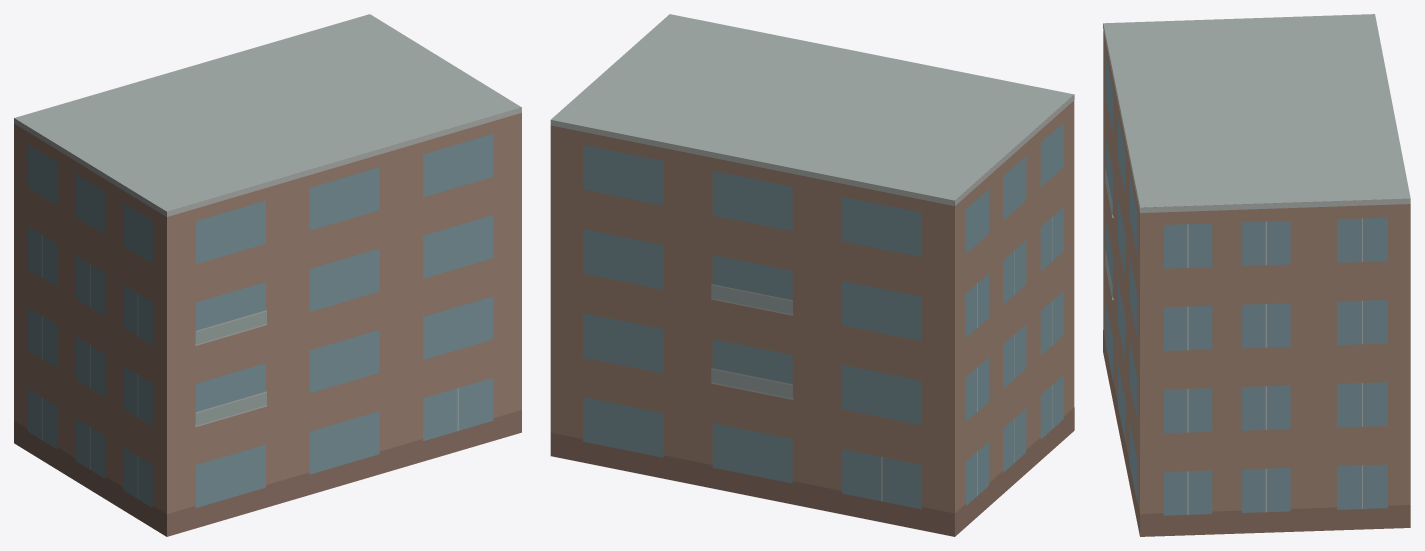
File: survey-upis-33018859.glb
3 renders of one model, left to right at view 1: azimuth 30°, elevation 25°; view 2: azimuth 150°, elevation 25°; view 3: azimuth 270°, elevation 25°, orthographic. The views are drawn at different scales.
Visible parts, largest first — view 1: survey-upis-33018859.tmp; view 2: survey-upis-33018859.tmp; view 3: survey-upis-33018859.tmp.
Boxes of the visible parts, left/top/right/bottom form: survey-upis-33018859.tmp: left=14, top=14, right=521, bottom=536; survey-upis-33018859.tmp: left=550, top=14, right=1074, bottom=536; survey-upis-33018859.tmp: left=1103, top=14, right=1410, bottom=536.
Size of the model in its own units: 18.42 by 14.6 by 12.36.
